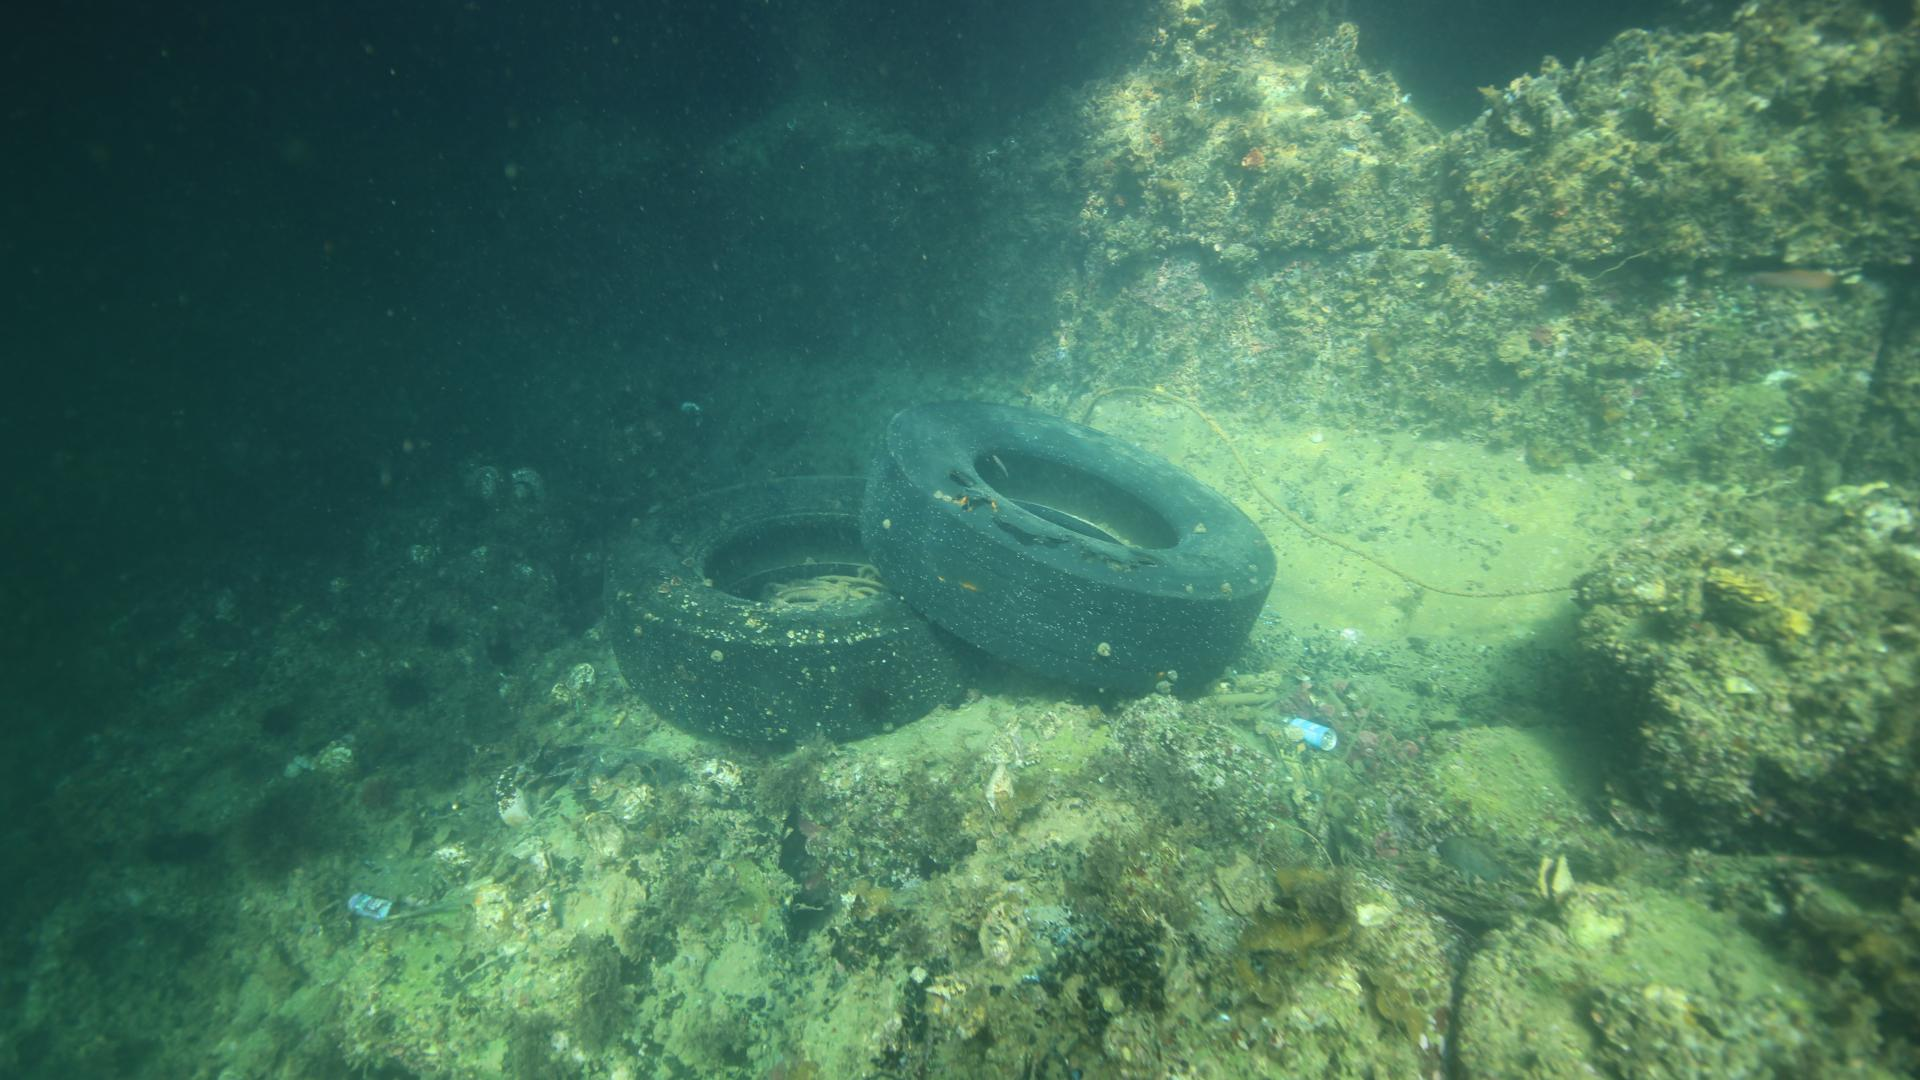bundle of ropes: (760, 559, 884, 607)
rope: (1079, 382, 1575, 599)
tire: (855, 398, 1279, 695), (603, 471, 1009, 742)
